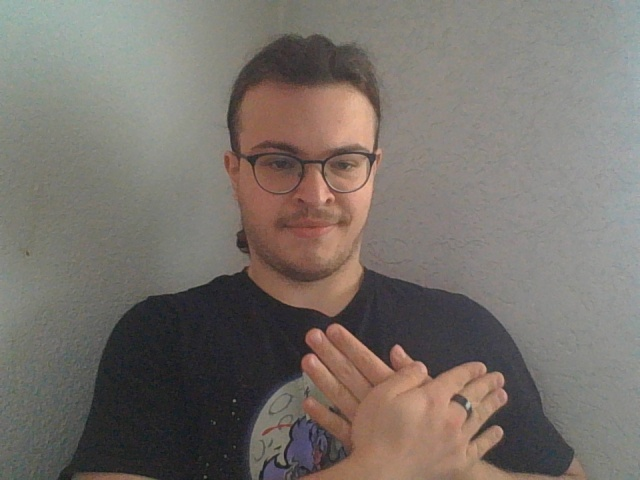Love: (294, 322, 511, 480)
